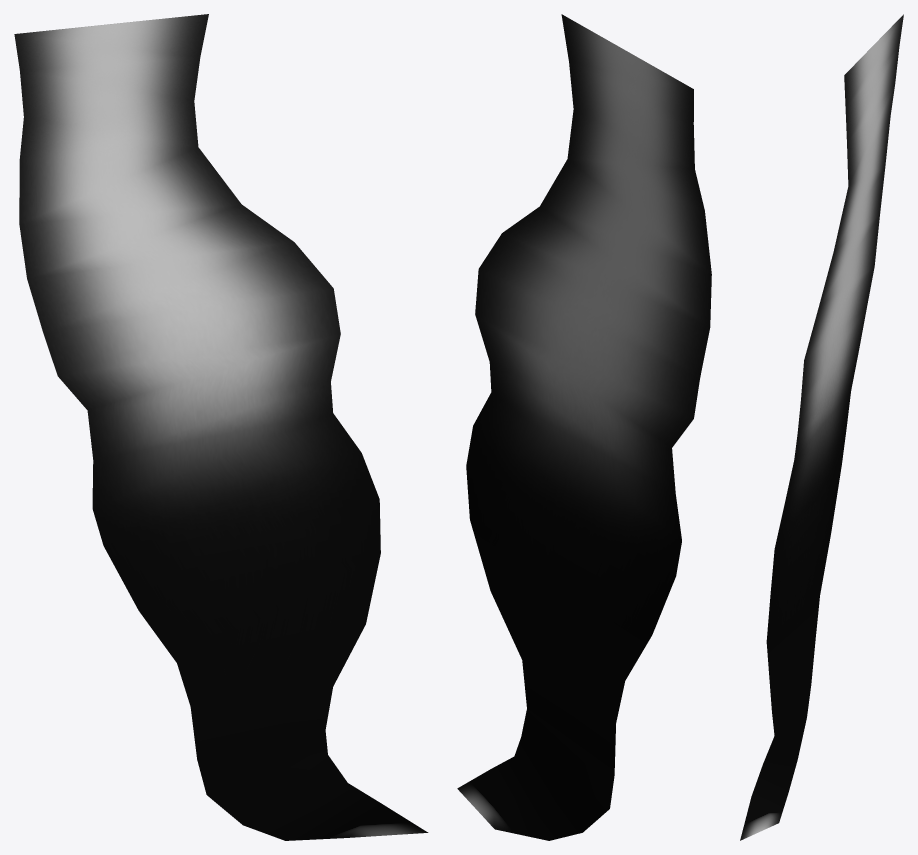
The model's file is texiao03.FBX.
3 renders of one model, left to right at view 1: azimuth 30°, elevation 25°; view 2: azimuth 150°, elevation 25°; view 3: azimuth 270°, elevation 25°, orthographic. The views are drawn at different scales.
Parts seen in each view (by area): view 1: texiao03; view 2: texiao03; view 3: texiao03.
Boxes of the visible parts, x1,y1,x2,y2 form: texiao03: (14,14,428,840); texiao03: (457,14,711,840); texiao03: (740,14,903,840).
Size of the model in its own units: 18.28 by 44.16 by 9.3.
